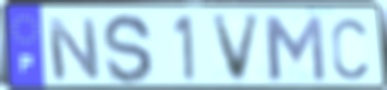1: (171, 13, 197, 85)
C: (329, 16, 370, 82)
M: (260, 13, 329, 84)
N: (44, 16, 104, 83)
S: (101, 12, 156, 87)
V: (209, 12, 265, 85)
